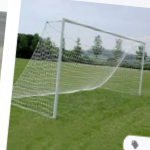goals: (18, 16, 148, 123)
